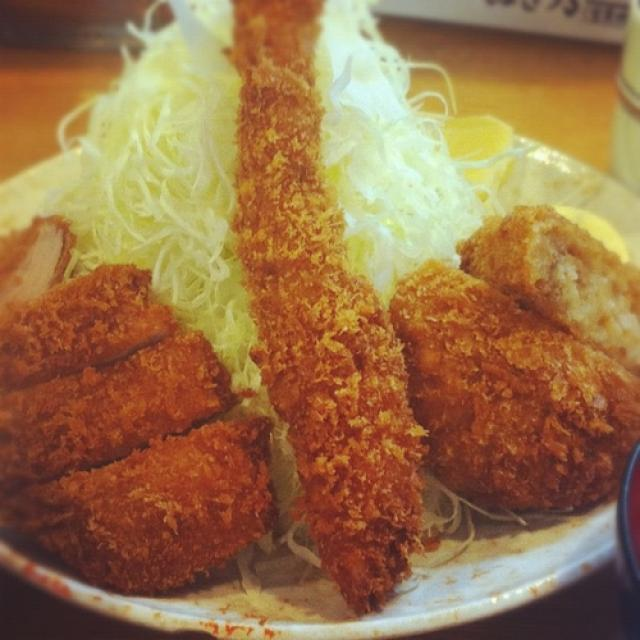牛肉菜式: (8, 32, 630, 604)
